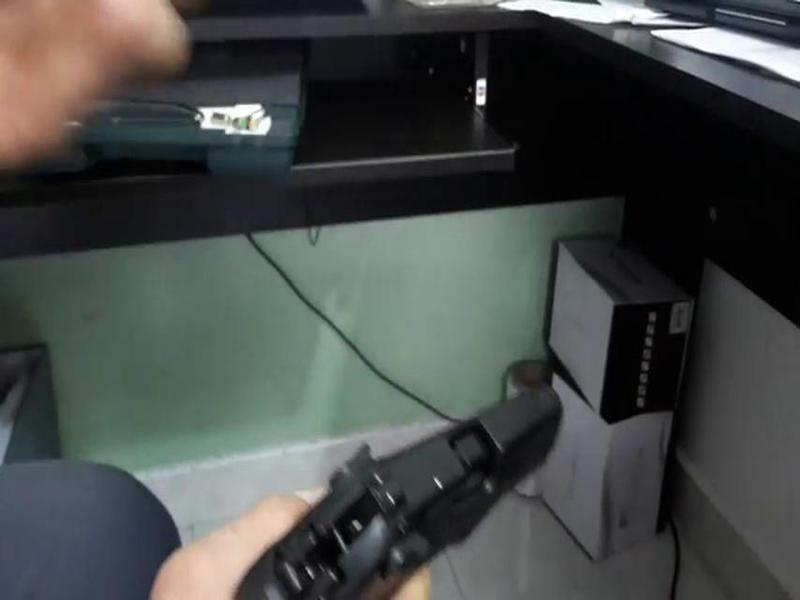Pistola: (231, 382, 565, 600)
